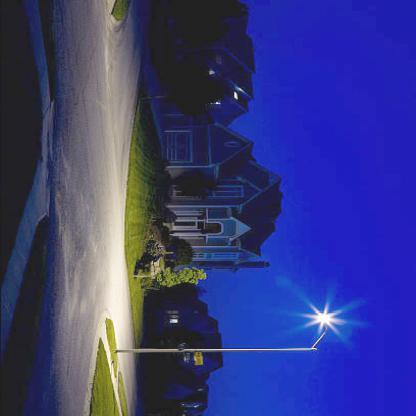on: (11, 0, 416, 416)
